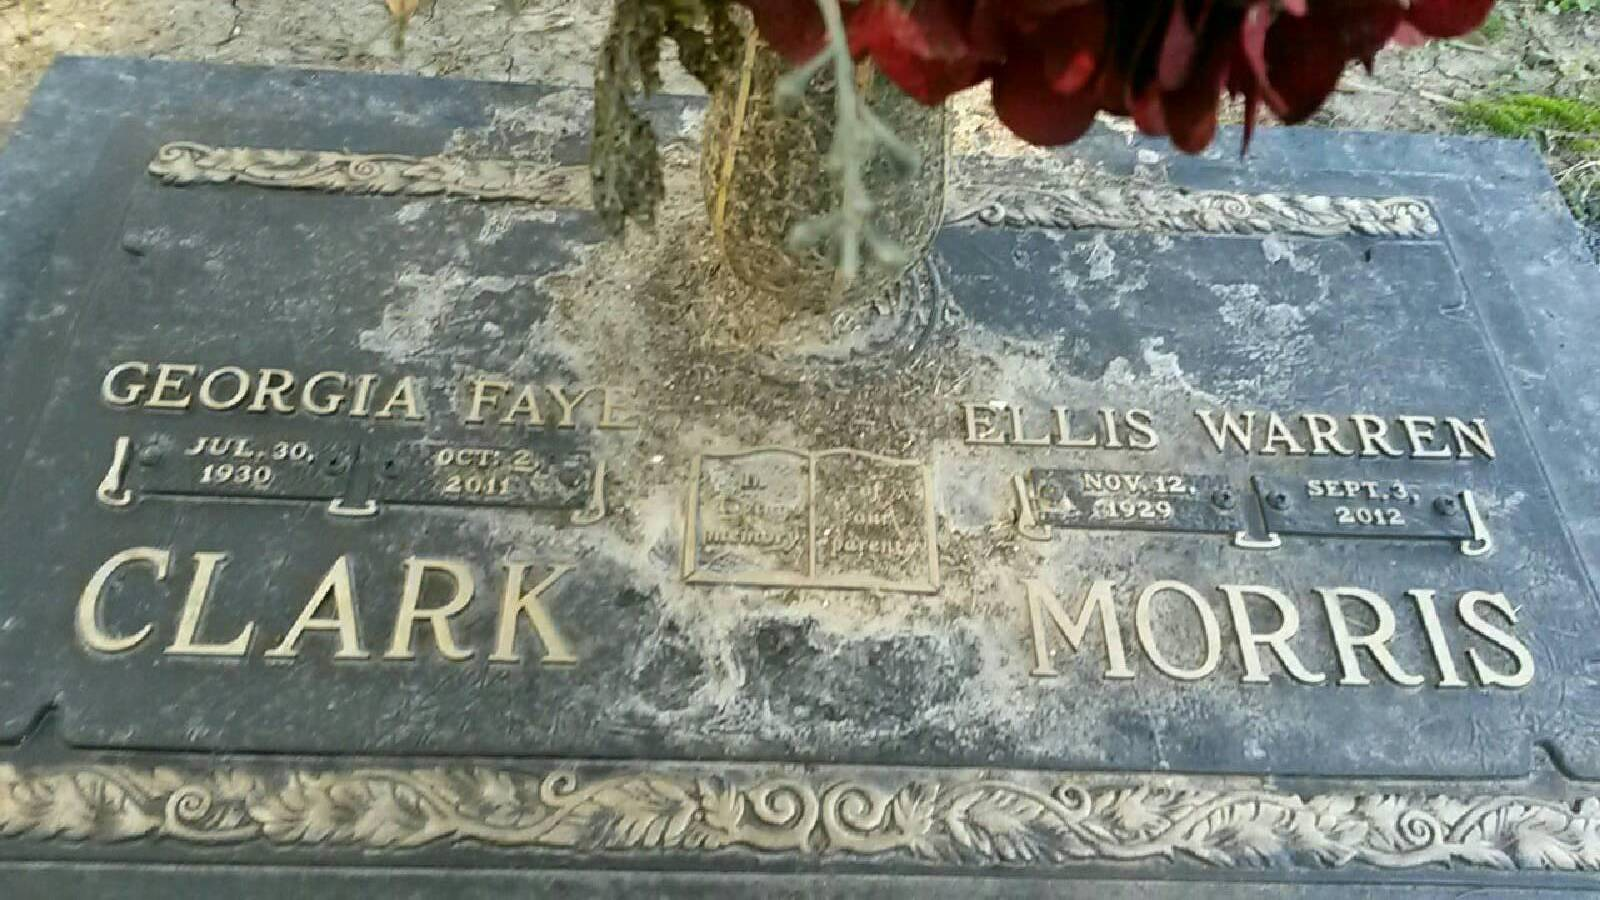flat: (0, 40, 1600, 900)
